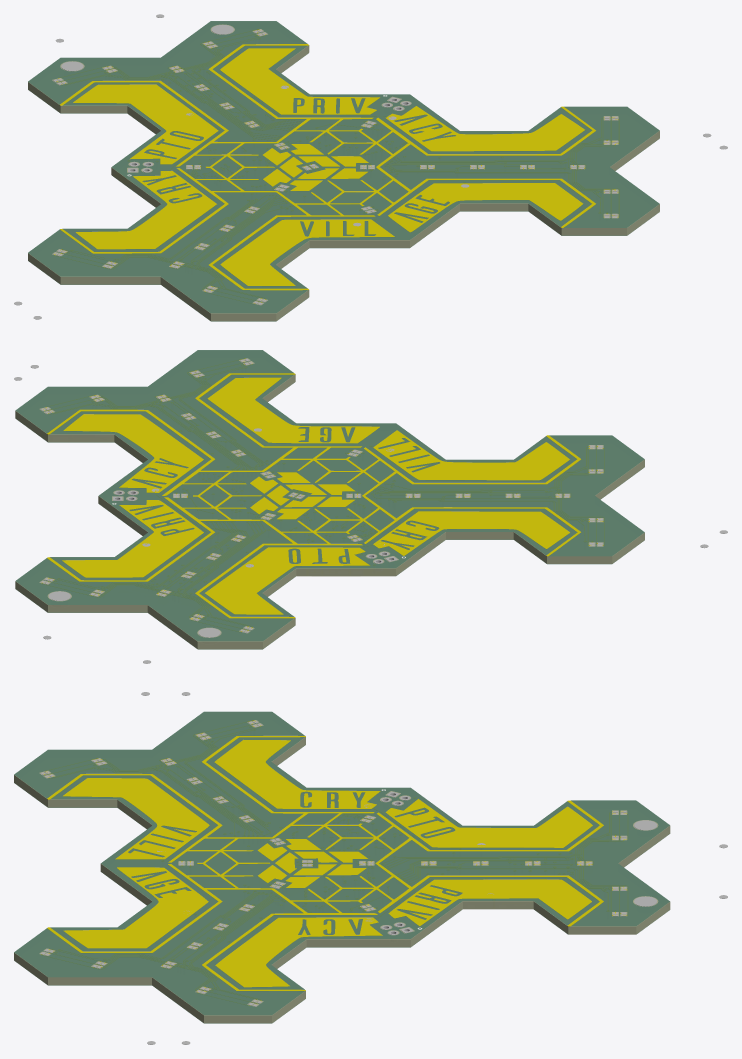
Rendered from dc26-cpv-badge.glb.
The picture shows the model from 3 angles, top to bottom: view 1: azimuth 30°, elevation 25°; view 2: azimuth 150°, elevation 25°; view 3: azimuth 270°, elevation 25°; orthographic projection. The views are drawn at different scales.
Parts seen in each view (by area): view 1: =>[0:1:1:7], =>[0:1:1:9], =>[0:1:1:2]; view 2: =>[0:1:1:7], =>[0:1:1:9], =>[0:1:1:2]; view 3: =>[0:1:1:7], =>[0:1:1:9], =>[0:1:1:2].
Boxes of the visible parts, bbox=[...] form: =>[0:1:1:7]: bbox=[28, 21, 659, 321]; =>[0:1:1:9]: bbox=[28, 22, 659, 321]; =>[0:1:1:2]: bbox=[14, 14, 727, 319]; =>[0:1:1:7]: bbox=[15, 350, 644, 649]; =>[0:1:1:9]: bbox=[15, 351, 644, 649]; =>[0:1:1:2]: bbox=[14, 358, 727, 663]; =>[0:1:1:7]: bbox=[14, 711, 669, 1023]; =>[0:1:1:9]: bbox=[14, 712, 670, 1023]; =>[0:1:1:2]: bbox=[40, 692, 727, 1044].
Size of the model in its own units: 0.1444 by 0.00166 by 0.1235.
Materials: 4 (4 with a texture image).
